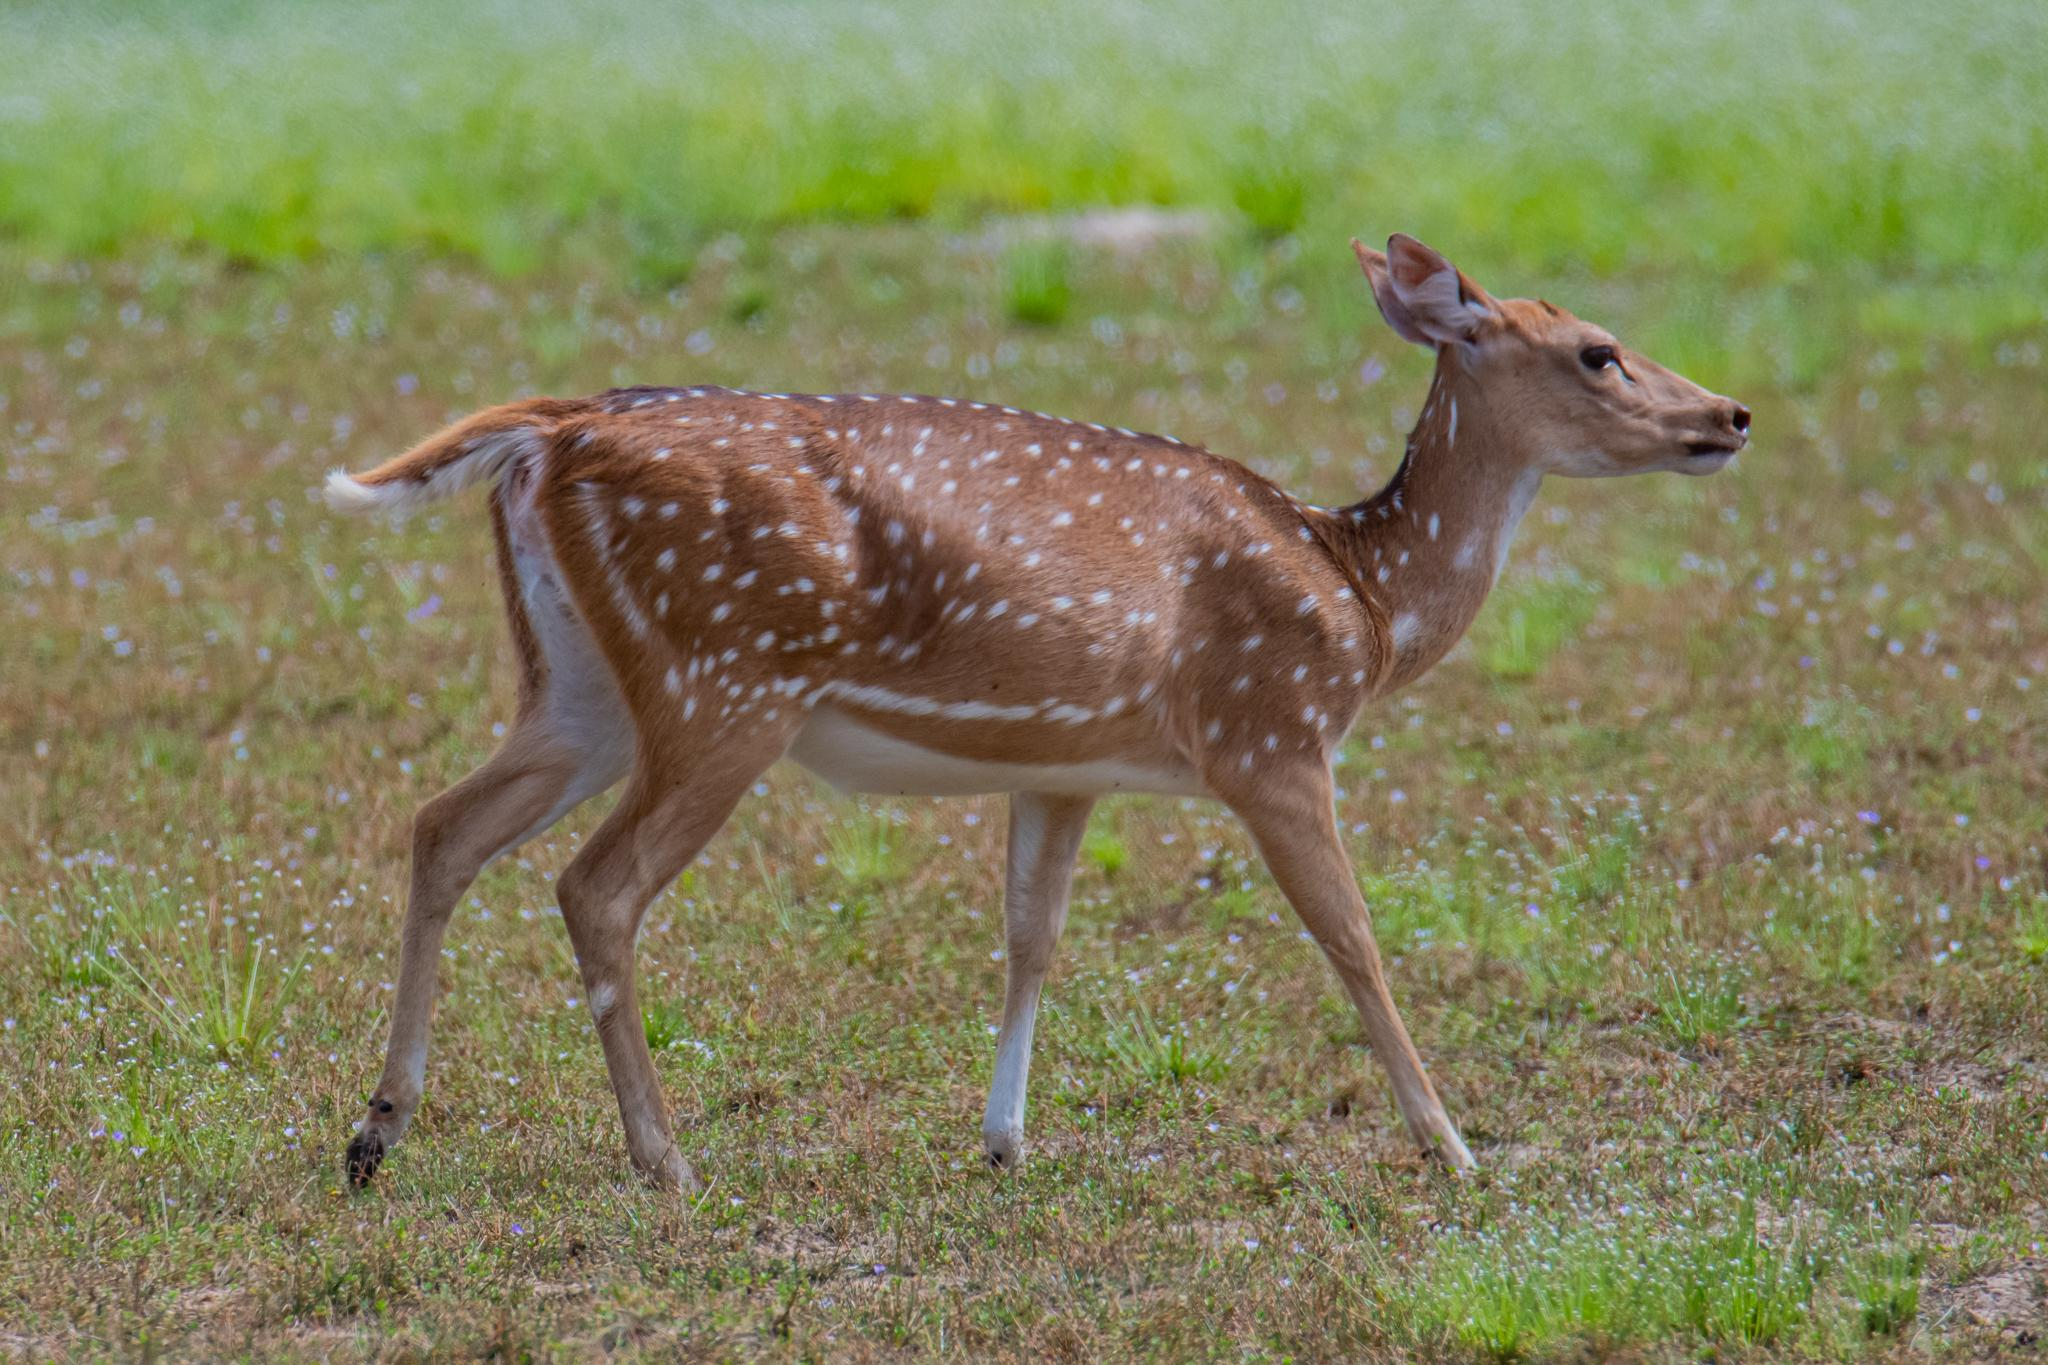Deer: (324, 235, 1750, 1188)
